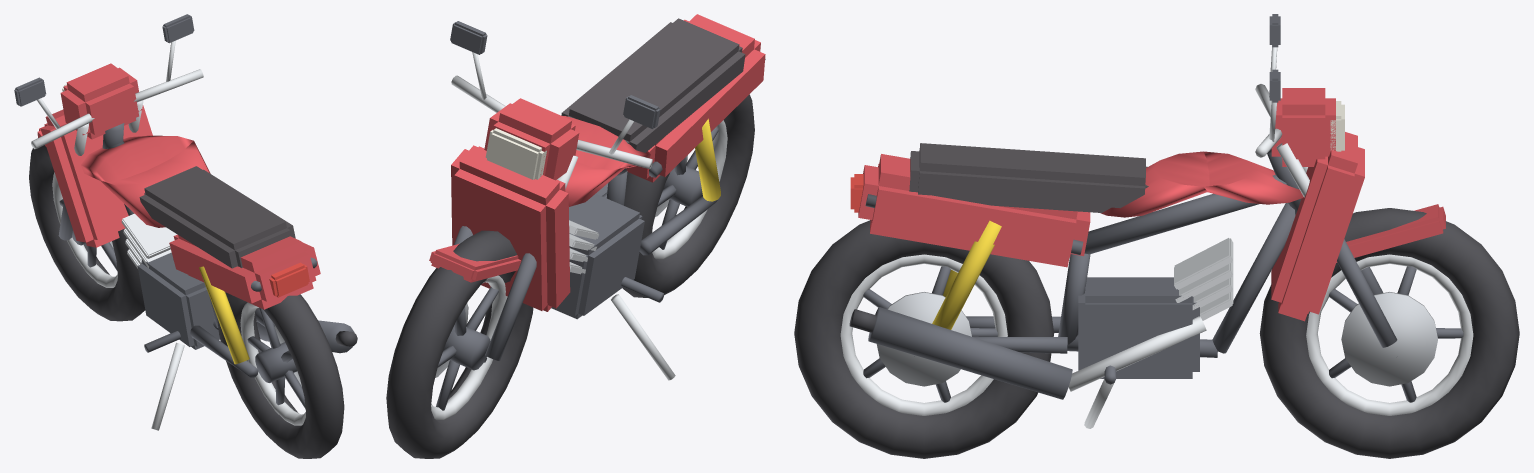
Rendered from parked_motorcycle.glb.
3 views of the same model, side by side, from view 1: azimuth 30°, elevation 25°; view 2: azimuth 150°, elevation 25°; view 3: azimuth 270°, elevation 25° (orthographic). The views are drawn at different scales.
Visible parts, largest first — view 1: MotoWheel_R_Tire, MotoSeat, MotoWheel_F_Tire, FrontLegShield, MotoBodyShell, RearTailBody, EngineCase, HeadlightCowl, RearShock_-0.11, MotoWheel_R_Rim, CylFin_3, MotoWheel_F_Rim (+12 smaller); view 2: MotoWheel_F_Tire, MotoSeat, FrontLegShield, MotoWheel_R_Tire, EngineCase, RearTailBody, HeadlightCowl, MotoBodyShell, HeadlightLens, FrontForkLow_-0.11, MotoWheel_F_Rim, FrontFender (+14 smaller); view 3: MotoWheel_F_Tire, MotoWheel_R_Tire, MotoSeat, RearTailBody, EngineCase, FrontLegShield, ExhaustCan, MotoBodyShell, MotoWheel_F_Disc, MotoWheel_F_Rim, MotoWheel_R_Rim, HeadlightCowl (+11 smaller).
Part boxes in pixels (box(x1,y1,x2,y2)): MotoWheel_R_Tire: box(217, 292, 344, 458); MotoSeat: box(139, 166, 295, 268); MotoWheel_F_Tire: box(29, 145, 145, 321); FrontLegShield: box(40, 105, 152, 247); MotoBodyShell: box(81, 135, 210, 227); RearTailBody: box(169, 234, 320, 309); EngineCase: box(137, 252, 219, 349); HeadlightCowl: box(60, 63, 142, 139); RearShock_-0.11: box(199, 266, 249, 364); MotoWheel_R_Rim: box(240, 302, 305, 425); CylFin_3: box(121, 213, 177, 258); MotoWheel_F_Rim: box(52, 172, 117, 287); MotoWheel_F_Tire: box(386, 230, 533, 458); MotoSeat: box(561, 18, 745, 152); FrontLegShield: box(451, 145, 570, 311); MotoWheel_R_Tire: box(622, 94, 754, 297); EngineCase: box(551, 193, 644, 319); RearTailBody: box(626, 14, 765, 182); HeadlightCowl: box(484, 98, 579, 180); MotoBodyShell: box(562, 116, 650, 206); HeadlightLens: box(485, 128, 546, 179); FrontForkLow_-0.11: box(485, 253, 536, 360); MotoWheel_F_Rim: box(431, 275, 507, 419); FrontFender: box(429, 243, 521, 282); MotoWheel_F_Tire: box(1259, 208, 1519, 458); MotoWheel_R_Tire: box(794, 220, 1054, 458); MotoSeat: box(909, 143, 1148, 215); RearTailBody: box(858, 154, 1090, 267); EngineCase: box(1078, 277, 1199, 378); FrontLegShield: box(1271, 132, 1364, 321); ExhaustCan: box(868, 307, 1072, 399); MotoBodyShell: box(1100, 151, 1303, 217); MotoWheel_F_Disc: box(1341, 292, 1437, 386); MotoWheel_F_Rim: box(1306, 254, 1473, 415); MotoWheel_R_Rim: box(840, 254, 1007, 415); HeadlightCowl: box(1271, 88, 1335, 166).
Bounding box in the file's own units: 0.7529 × 1.28 × 2.03.
